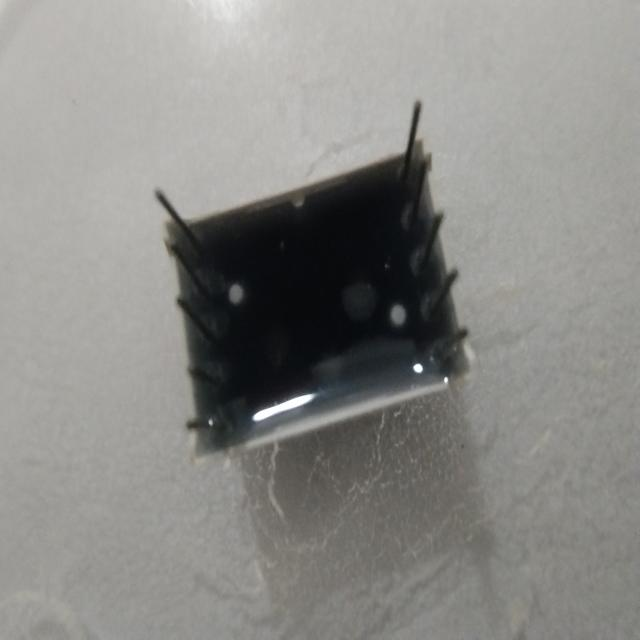7_segments: (142, 87, 492, 485)
